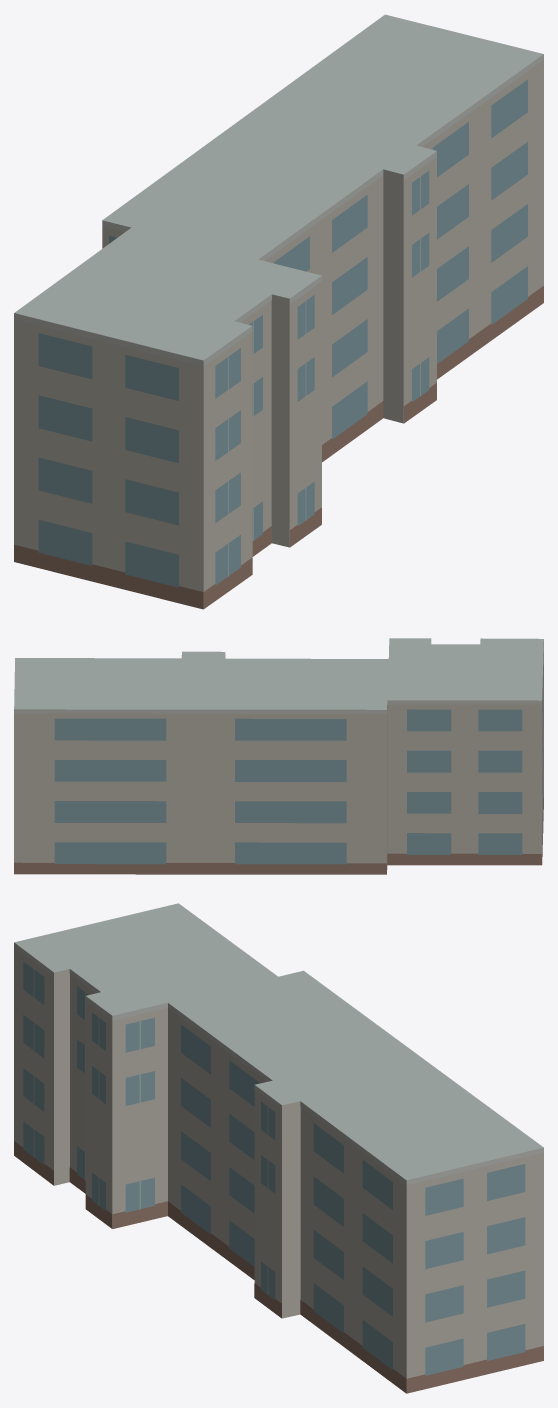
File: survey-upis-32524229.glb
3 renders of one model, top to bottom at view 1: azimuth 30°, elevation 25°; view 2: azimuth 150°, elevation 25°; view 3: azimuth 270°, elevation 25°, orthographic. The views are drawn at different scales.
Visible parts, largest first — view 1: survey-upis-32524229.tmp; view 2: survey-upis-32524229.tmp; view 3: survey-upis-32524229.tmp.
Part boxes in pixels (x1,y1,x2,y2): survey-upis-32524229.tmp: (14, 14, 543, 609); survey-upis-32524229.tmp: (14, 638, 543, 874); survey-upis-32524229.tmp: (14, 903, 543, 1393).
Bounding box in the file's own units: 28.57 × 10.25 × 23.08.
